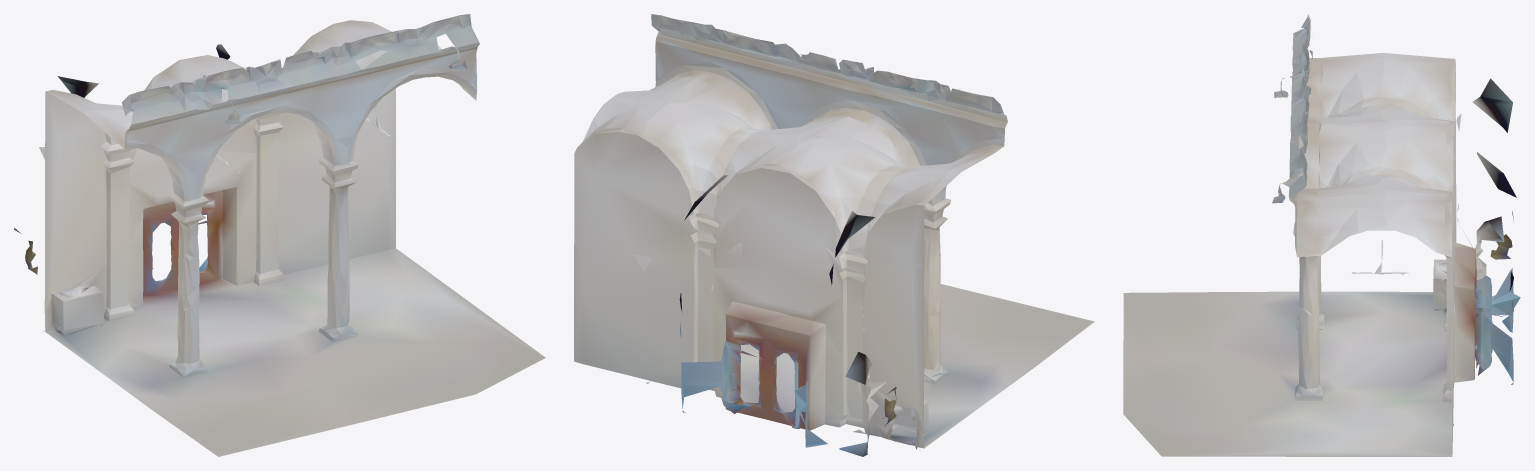
The picture shows the model from 3 angles, left to right: view 1: azimuth 30°, elevation 25°; view 2: azimuth 150°, elevation 25°; view 3: azimuth 270°, elevation 25°; orthographic projection. The views are drawn at different scales.
Bounding box in the file's own units: 10.09 × 8.18 × 10.18.
